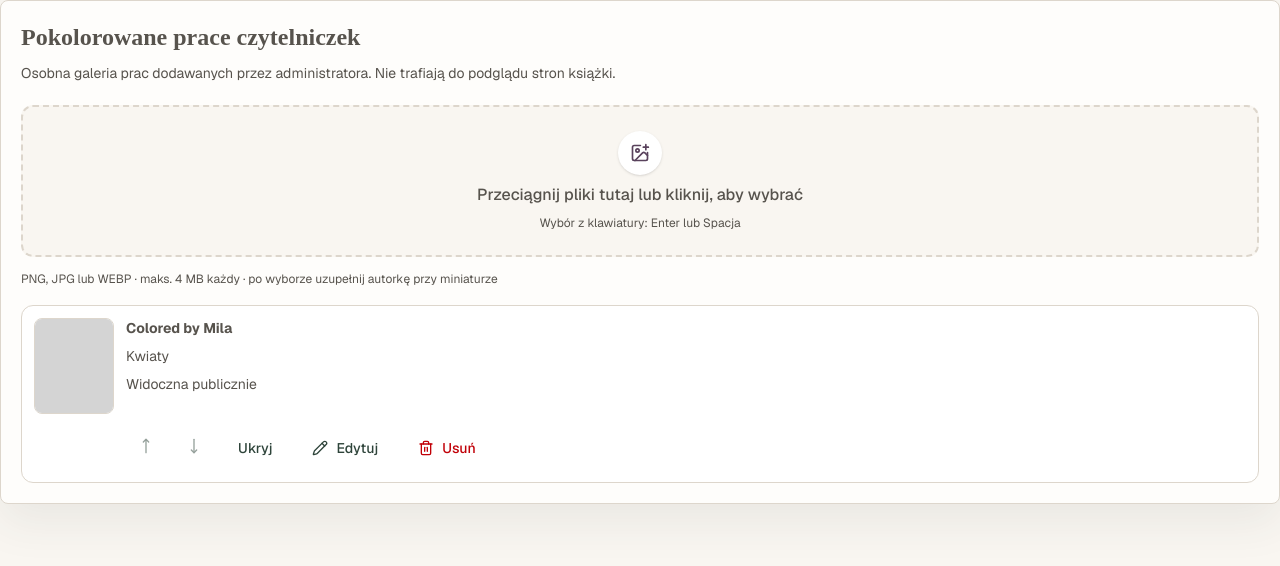
Test case: ReaderArtworkManager › does not report success or replace current artwork when a mutation response is malformed
Click the button "Ukryj". click: (255, 448)
box: x1=222 y1=426 x2=288 y2=470
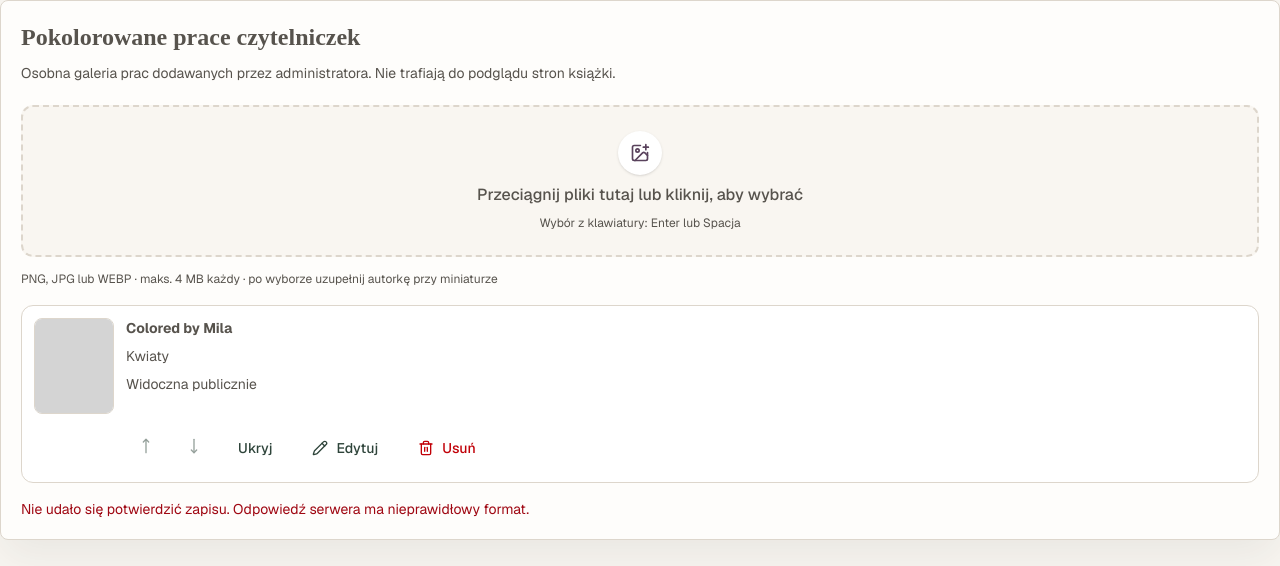
Expected: the text "Colored by Mila" is shown, x1=126 y1=319 x2=232 y2=337
Result: the message shows "Nie udało się potwierdzić zapisu." at x1=21 y1=500 x2=529 y2=518
